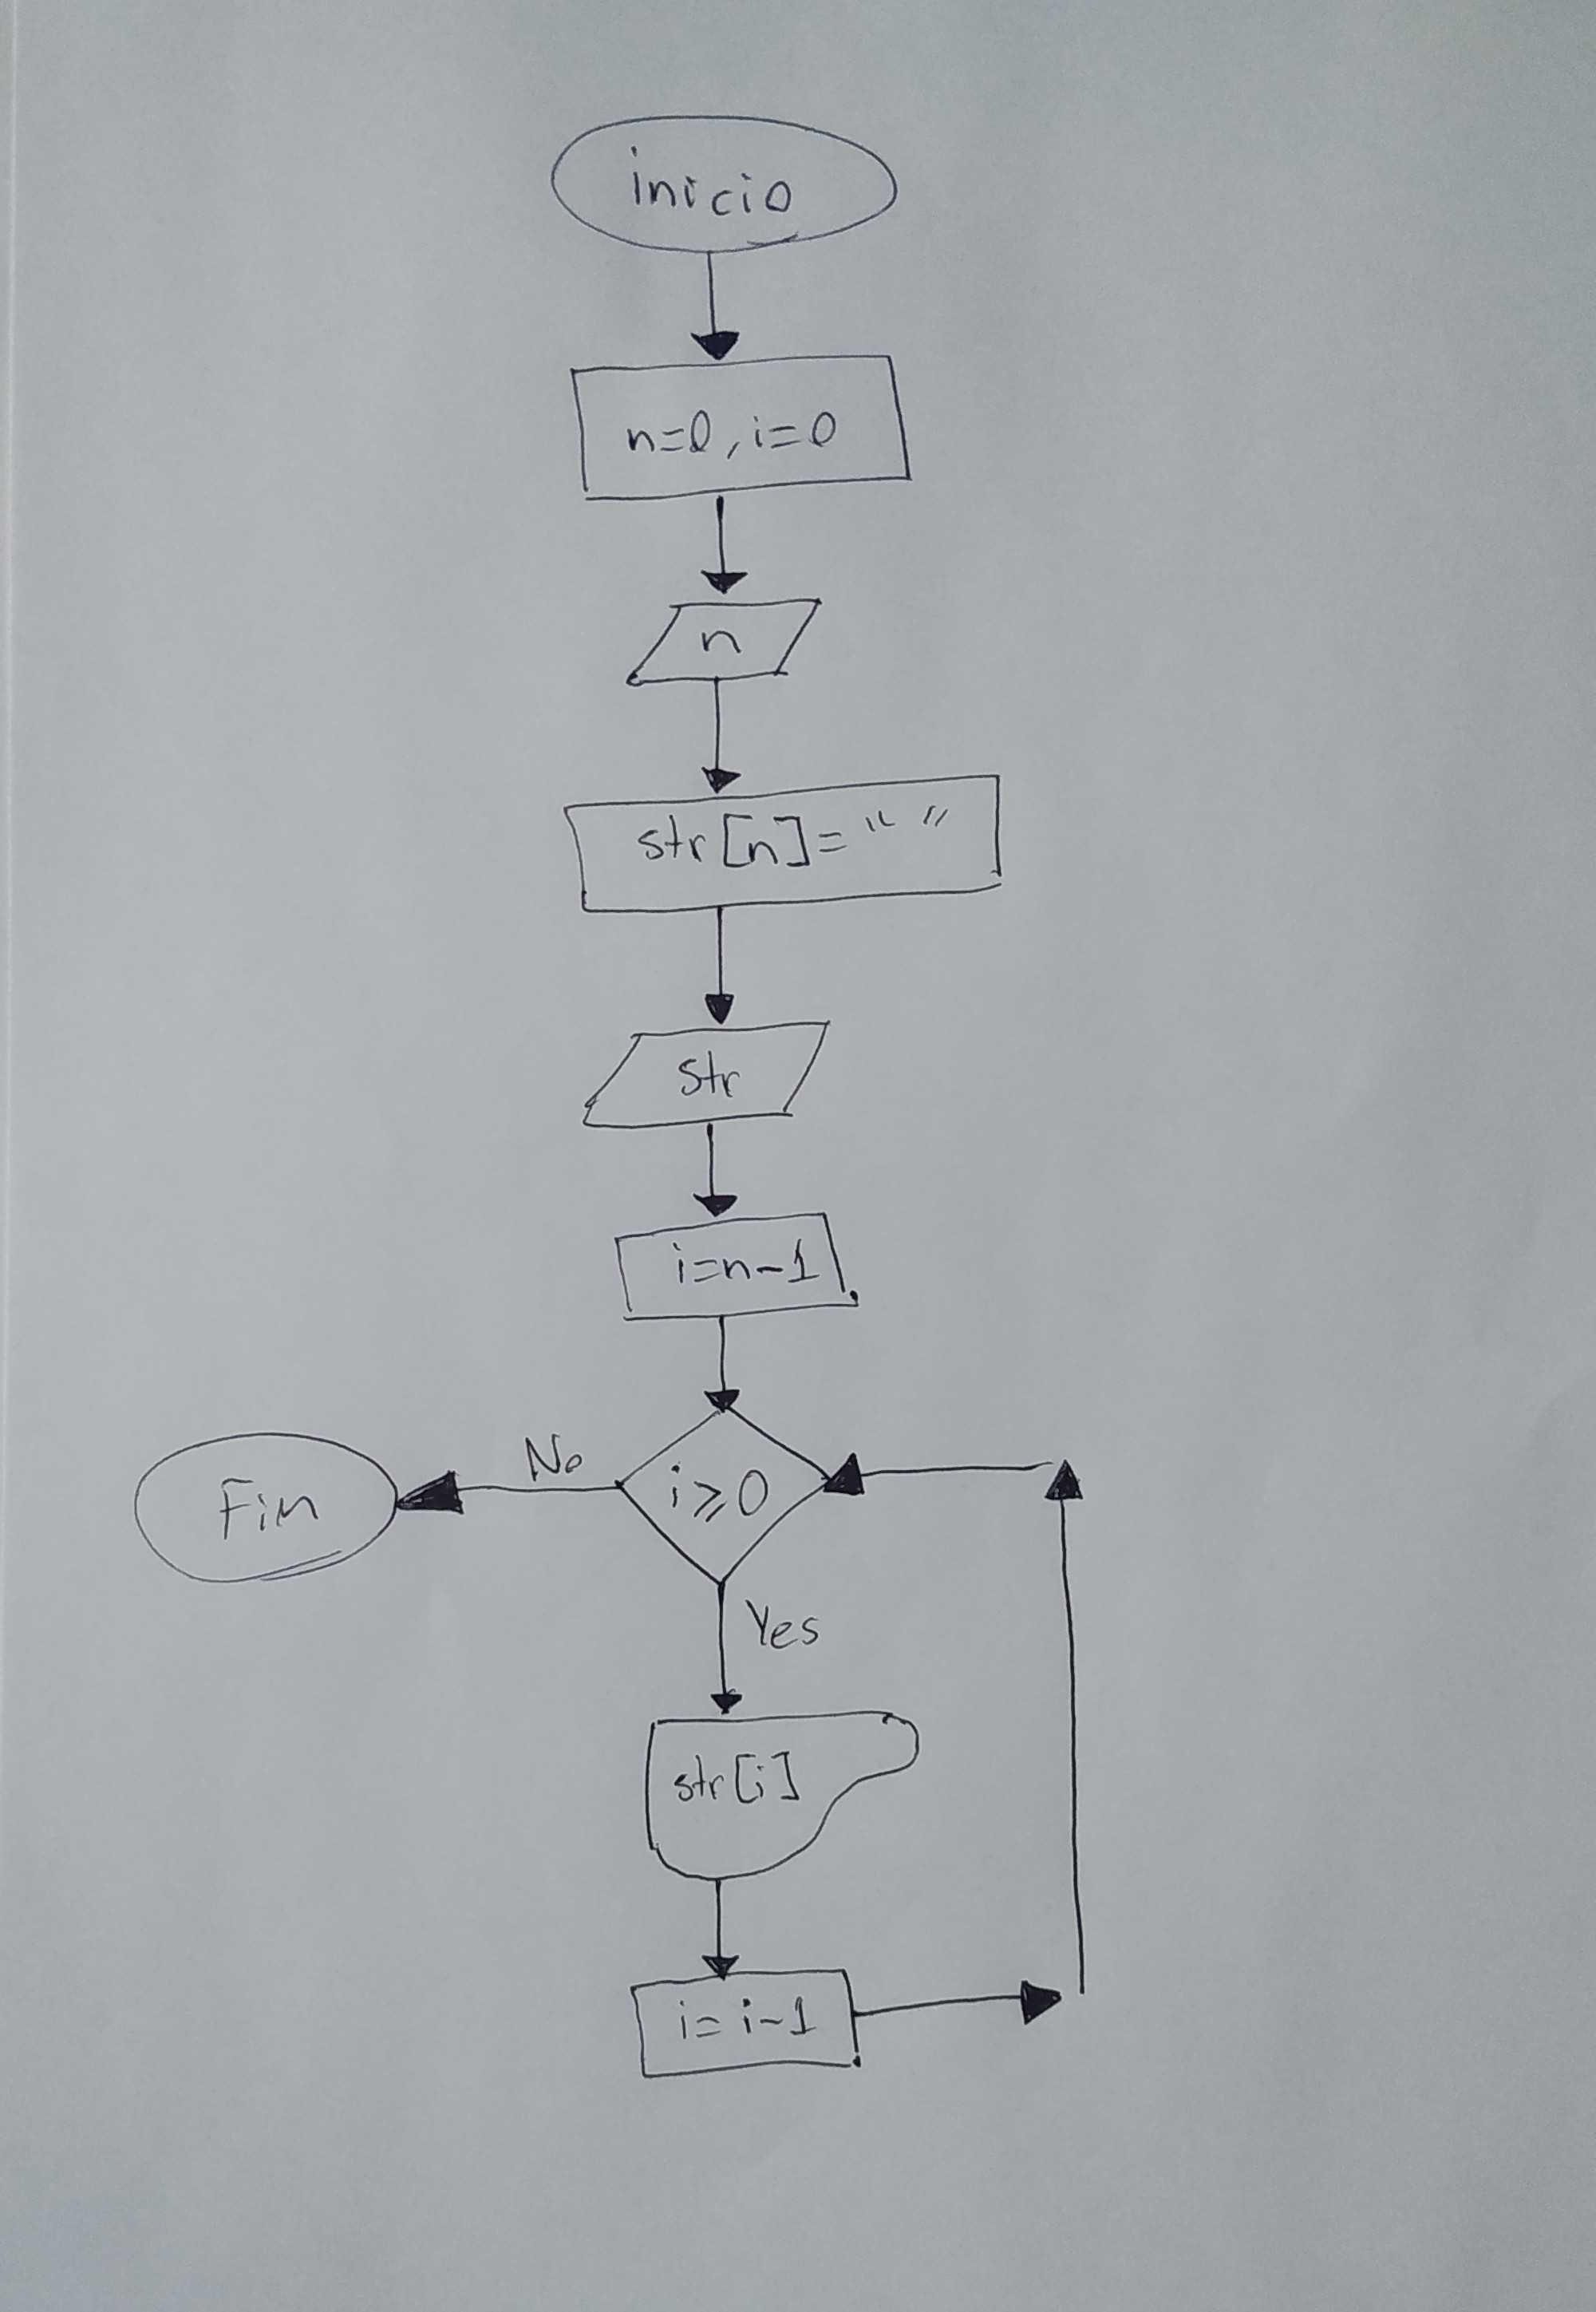arrow_line_down: (694, 492, 753, 604), (699, 1579, 746, 1718), (687, 251, 741, 367), (685, 1119, 743, 1223), (694, 676, 743, 796), (694, 907, 737, 1026), (694, 1311, 744, 1412), (697, 1880, 744, 1982)
arrow_line_left: (397, 1453, 622, 1523), (822, 1446, 1055, 1502)
arrow_line_right: (843, 1971, 1068, 2041)
arrow_line_up: (1038, 1455, 1097, 2001)
decision: (615, 1404, 830, 1586)
print: (630, 1702, 925, 1885)
process: (550, 768, 1020, 921), (565, 348, 920, 509), (600, 1207, 869, 1330), (623, 1962, 873, 2089)
scan: (562, 1012, 850, 1138), (625, 594, 829, 701)
start_end: (543, 98, 908, 258), (130, 1421, 404, 1597)
